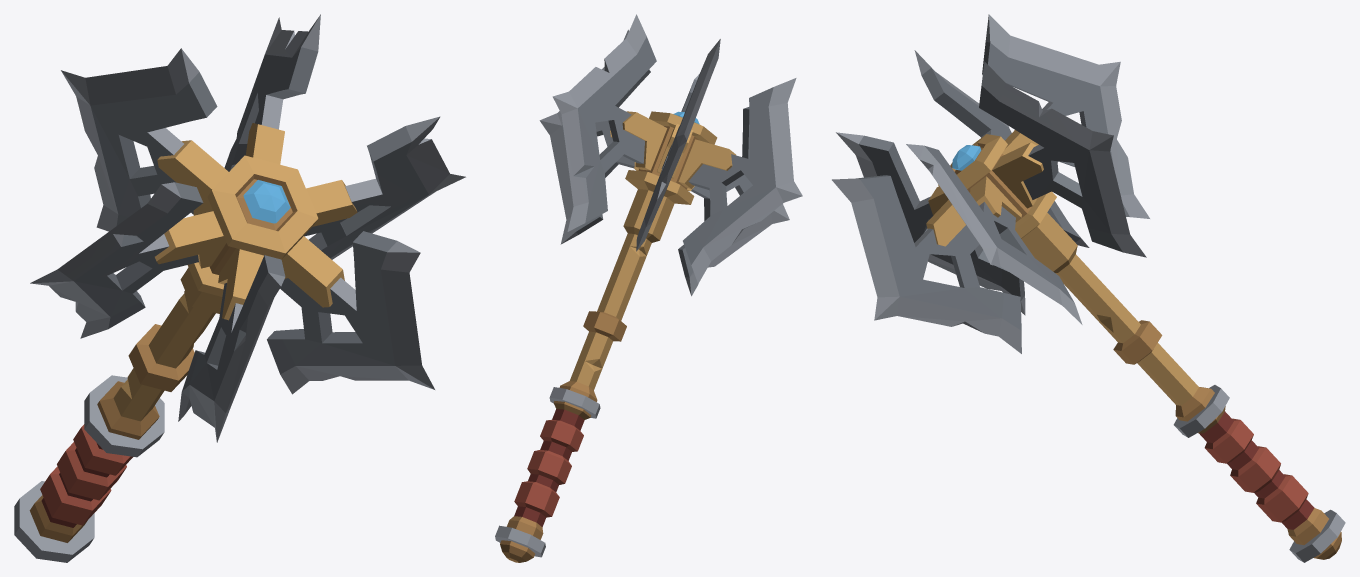
Rendered from dr-mace-medium-03.glb.
The picture shows the model from 3 angles, left to right: view 1: azimuth 30°, elevation 25°; view 2: azimuth 150°, elevation 25°; view 3: azimuth 270°, elevation 25°; orthographic projection. The views are drawn at different scales.
Parts seen in each view (by area): view 1: dr-mace-medium-03; view 2: dr-mace-medium-03; view 3: dr-mace-medium-03.
Part boxes in pixels (x1=…): dr-mace-medium-03: x1=14, y1=14, x2=465, y2=562; dr-mace-medium-03: x1=495, y1=14, x2=802, y2=562; dr-mace-medium-03: x1=832, y1=14, x2=1345, y2=562.
Bounding box in the file's own units: 0.5064 × 0.7855 × 0.7138.
Materials: 1 (1 with a texture image).
